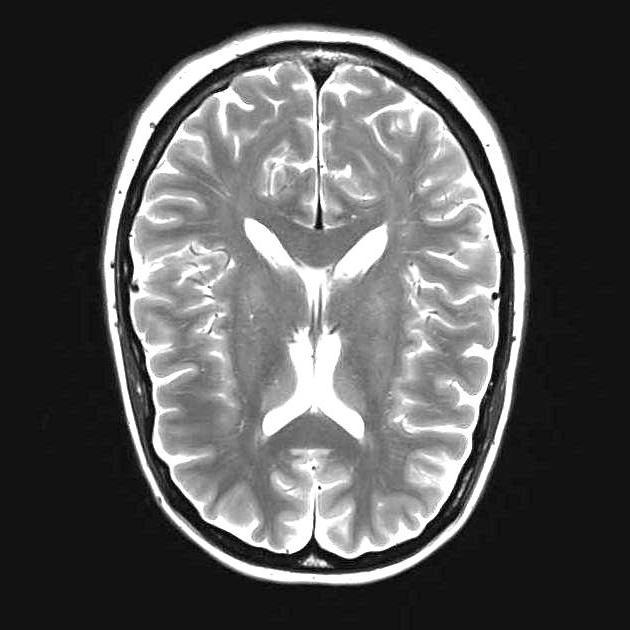Normal_Brain: (64, 19, 568, 612)
